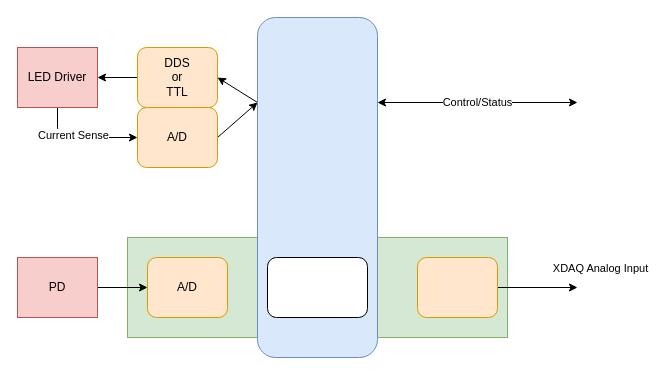
The diagram is 665 pixels wide and 375 high, and some of its shapes have lost their labels. Each missing label, with the centre of its shape:
D/A: point (457, 287)
DFT for LockInAmp: point (317, 287)
MCU: point (317, 187)
